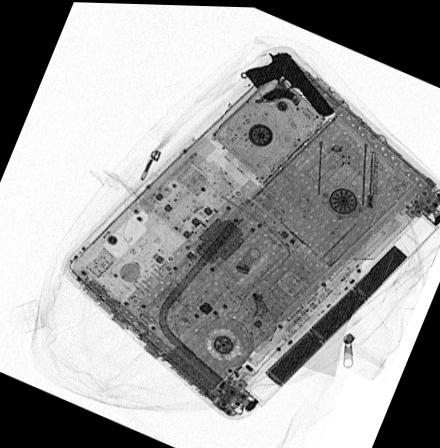Gun: (242, 48, 334, 116)
